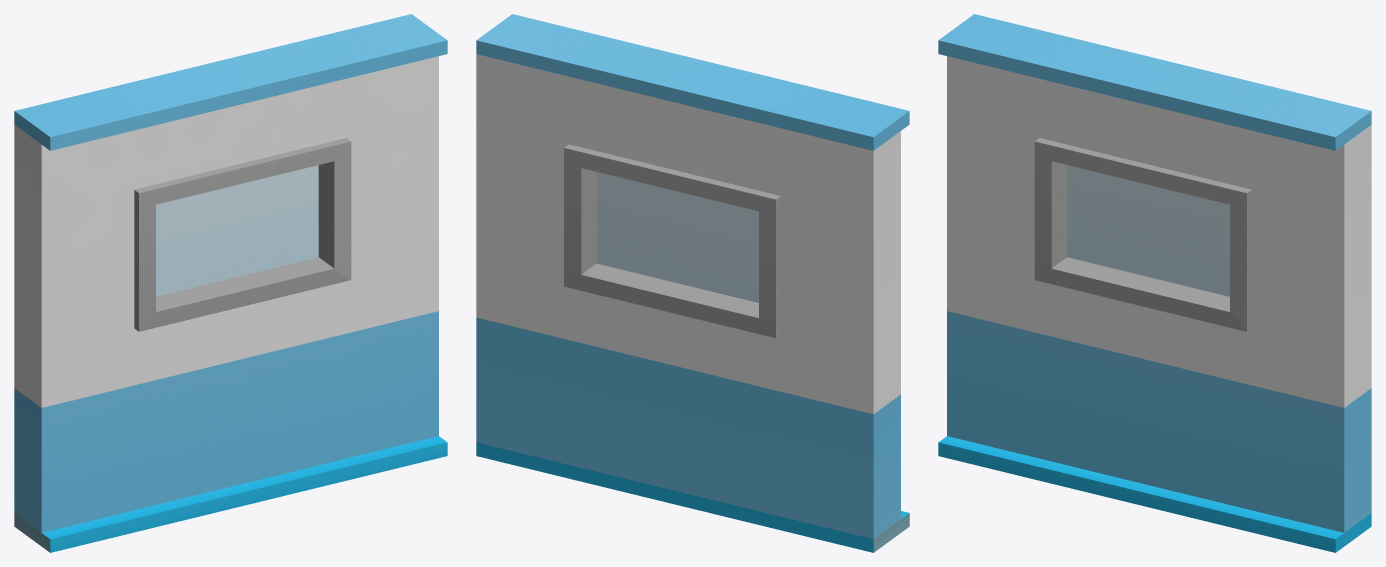
Rendered from wall_window.glb.
The picture shows the model from 3 angles, left to right: view 1: azimuth 30°, elevation 25°; view 2: azimuth 150°, elevation 25°; view 3: azimuth 330°, elevation 25°; orthographic projection.
Parts seen in each view (by area): view 1: wall_window; view 2: wall_window; view 3: wall_window.
Part boxes in pixels (x1,y1,x2,y2): wall_window: (14,14,447,552); wall_window: (476,14,909,552); wall_window: (938,14,1371,552).
Bounding box in the file's own units: 2 × 2 × 0.3568.
1 material, 1 textured.
